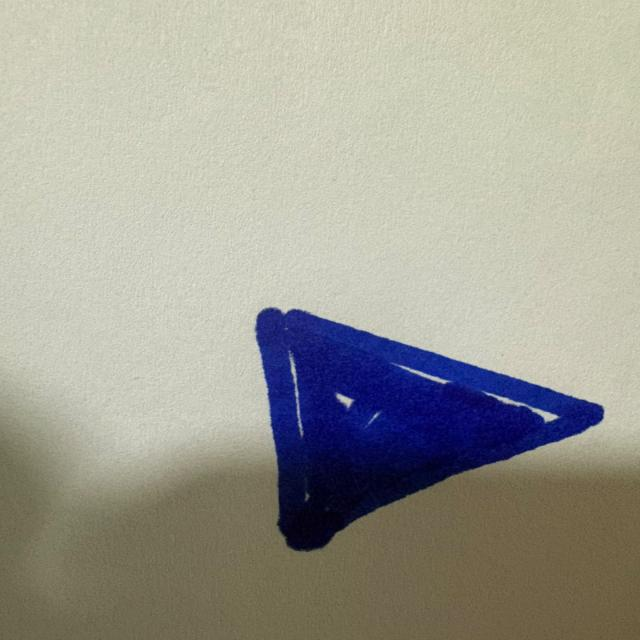Triangle: (257, 308, 603, 551)
